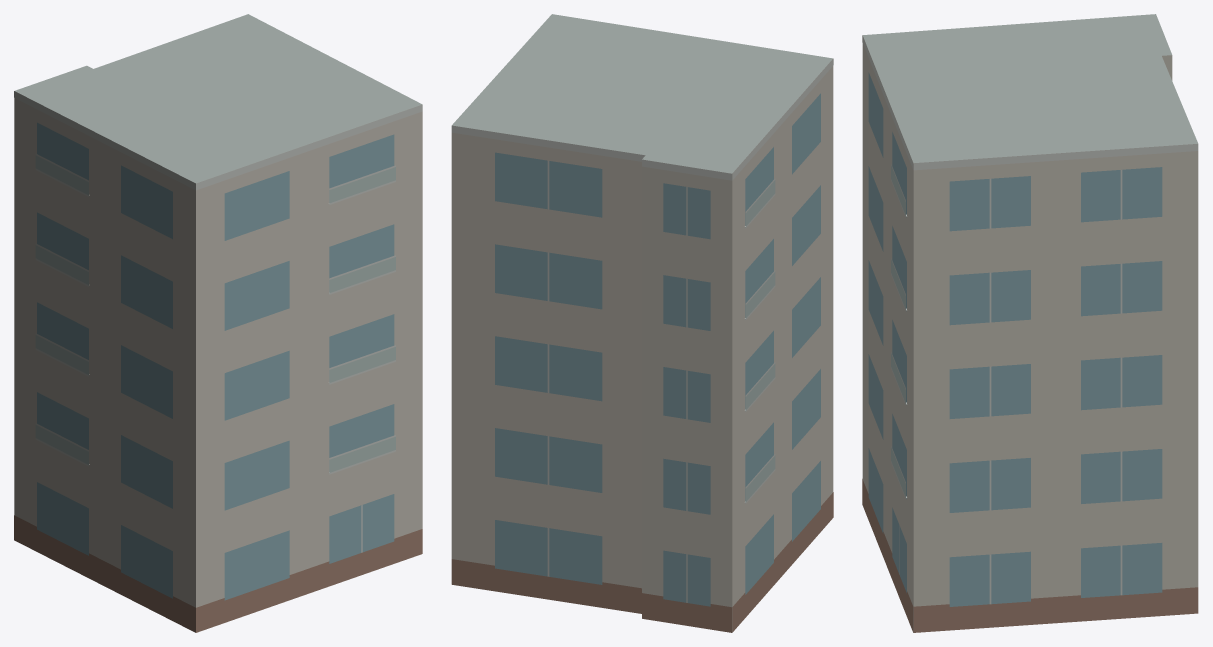
Rendered from survey-upis-32736519.glb.
The picture shows the model from 3 angles, left to right: view 1: azimuth 30°, elevation 25°; view 2: azimuth 150°, elevation 25°; view 3: azimuth 270°, elevation 25°; orthographic projection. The views are drawn at different scales.
Parts seen in each view (by area): view 1: survey-upis-32736519.tmp; view 2: survey-upis-32736519.tmp; view 3: survey-upis-32736519.tmp.
Part boxes in pixels (x1,y1,x2,y2): survey-upis-32736519.tmp: [14, 14, 422, 632]; survey-upis-32736519.tmp: [451, 14, 833, 632]; survey-upis-32736519.tmp: [862, 14, 1198, 632].
Size of the model in its own units: 10.81 by 15.85 by 10.28.
